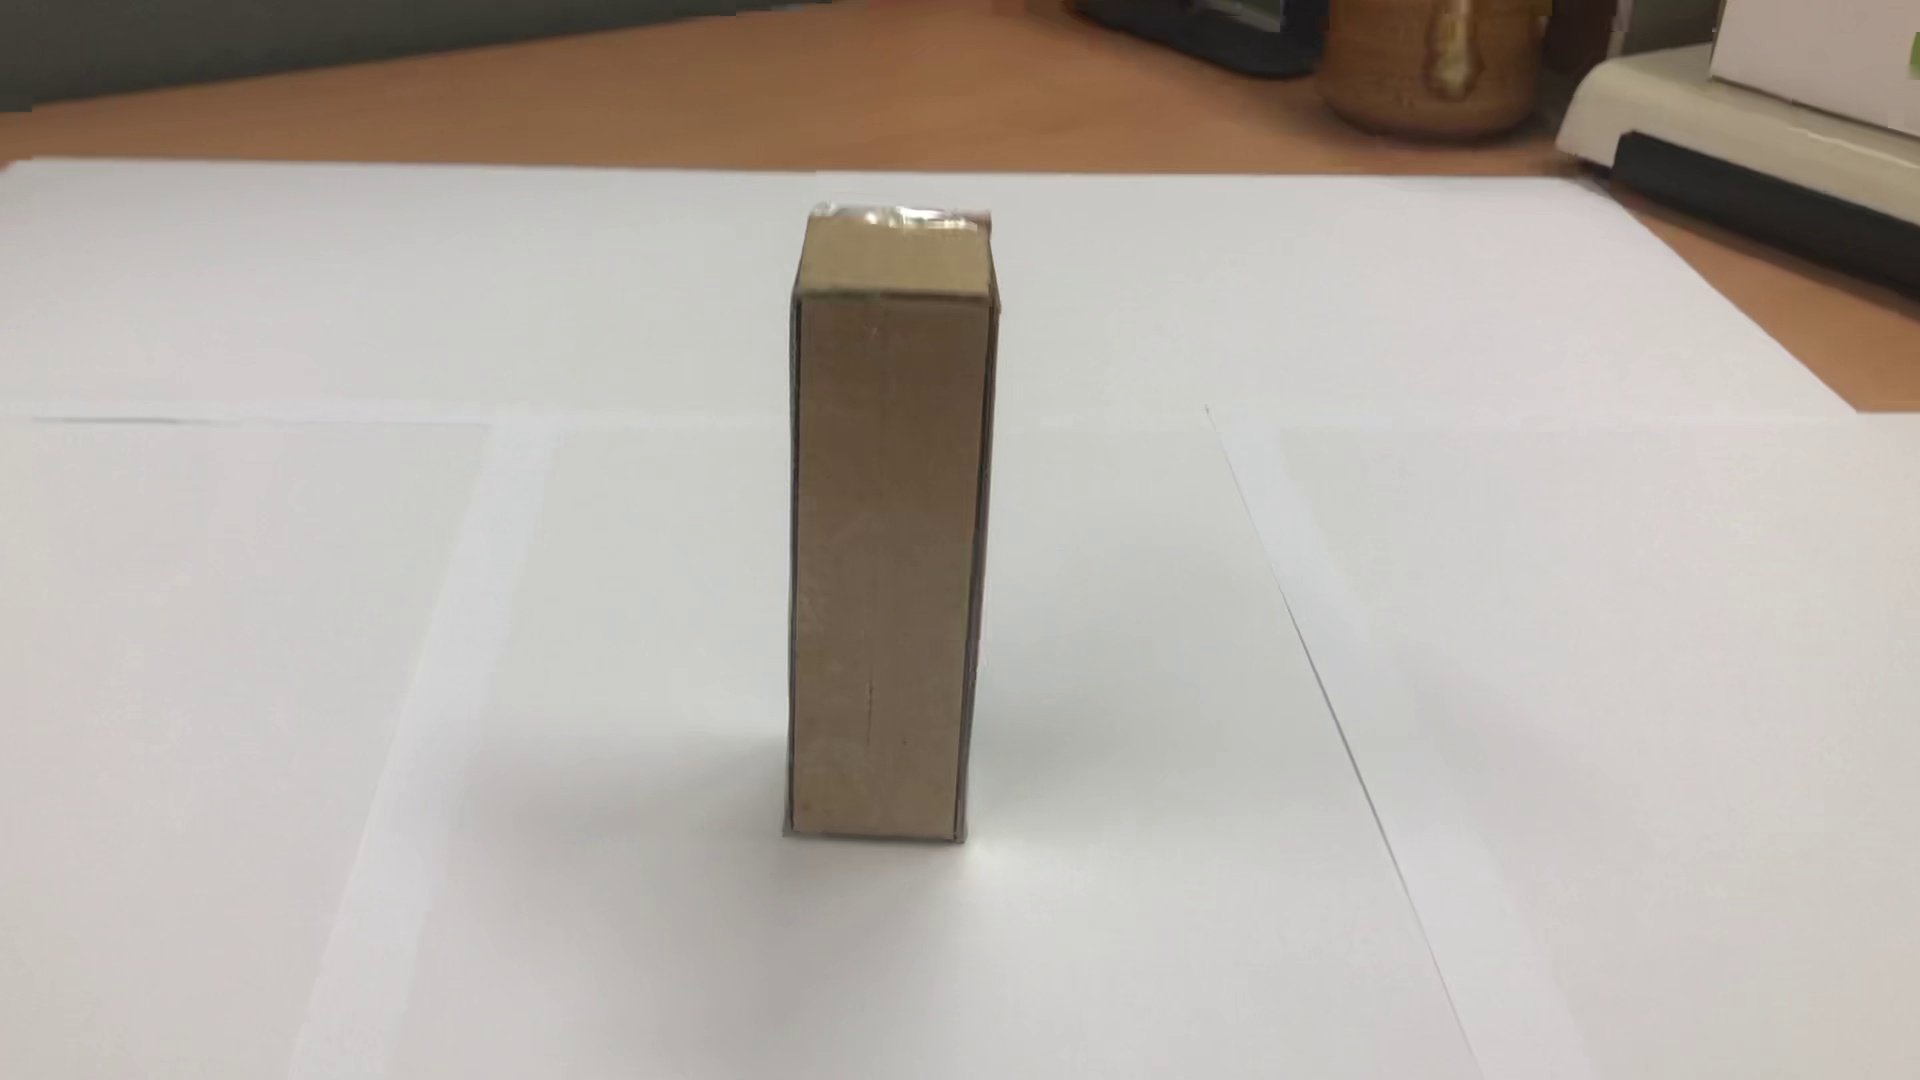box: (764, 198, 1026, 860)
